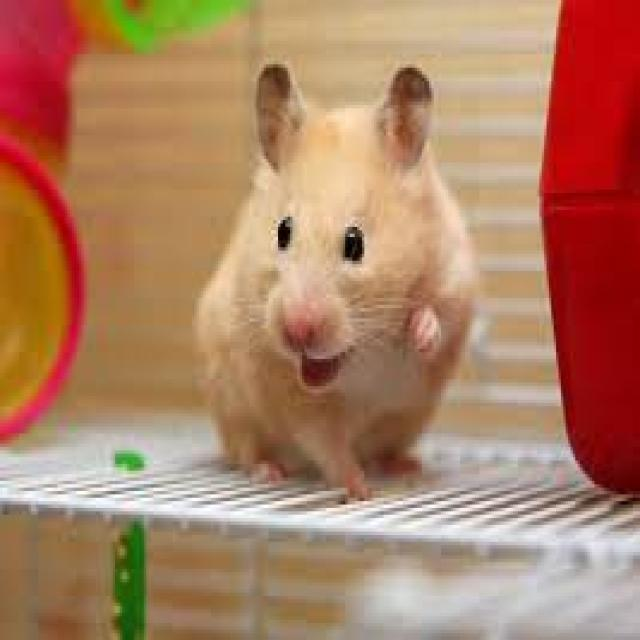hamster: (212, 82, 479, 484)
